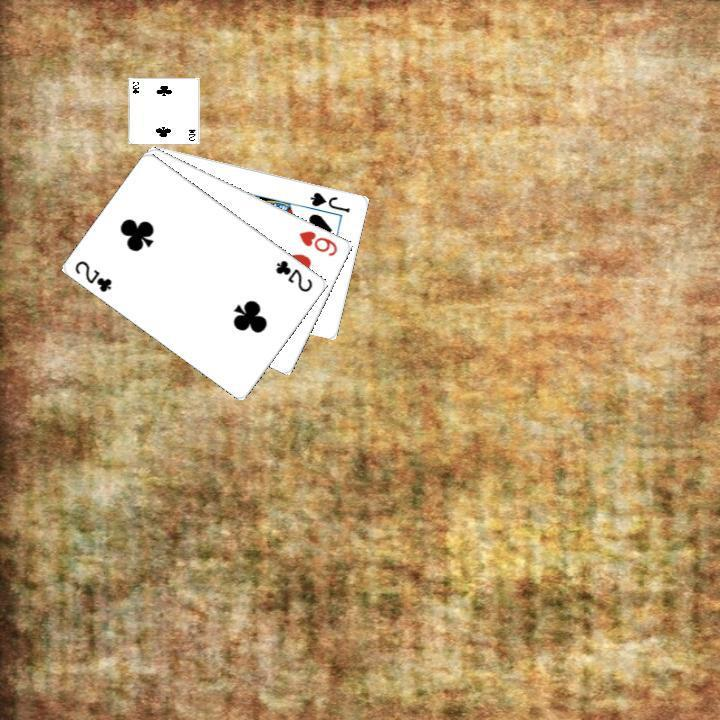2: (271, 255, 315, 294), (71, 256, 115, 294)
6: (295, 226, 340, 258)
J: (306, 187, 352, 214)
